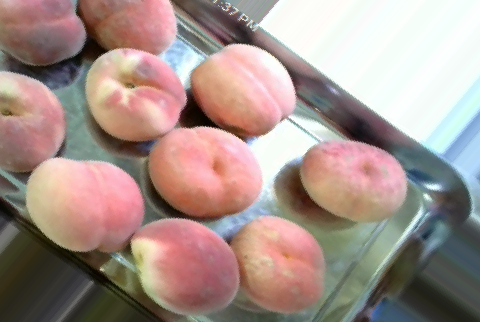Peach: (24, 157, 143, 254), (128, 217, 242, 316), (146, 124, 260, 219), (191, 42, 297, 135), (84, 48, 187, 141), (232, 214, 327, 314), (297, 138, 407, 221), (0, 68, 68, 175), (0, 0, 88, 64)
